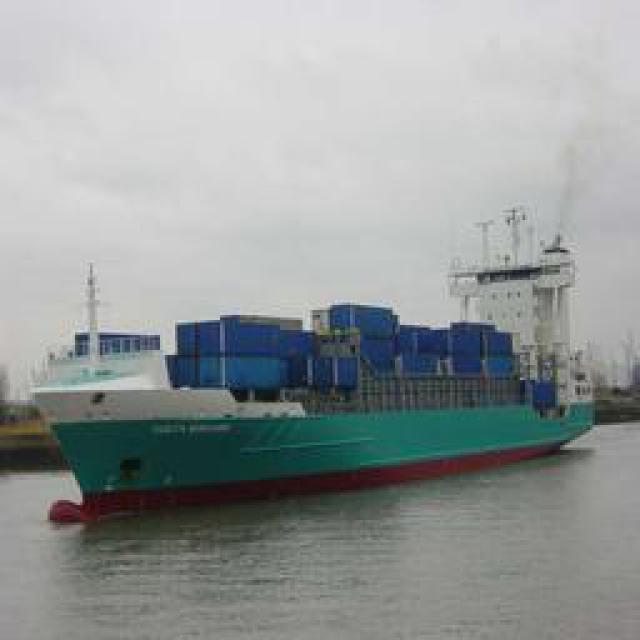Ship: (43, 330, 601, 523)
